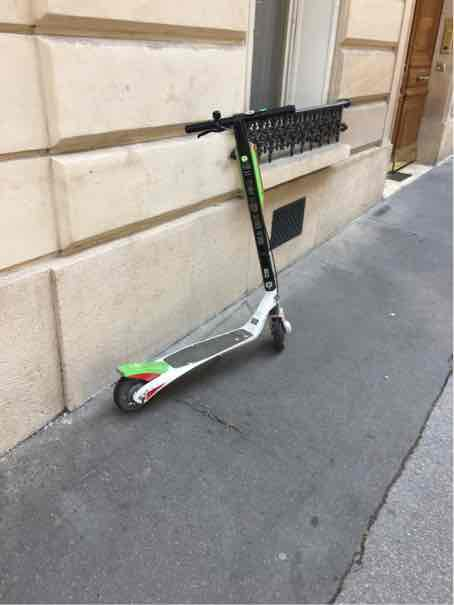scooter: (101, 93, 310, 417)
